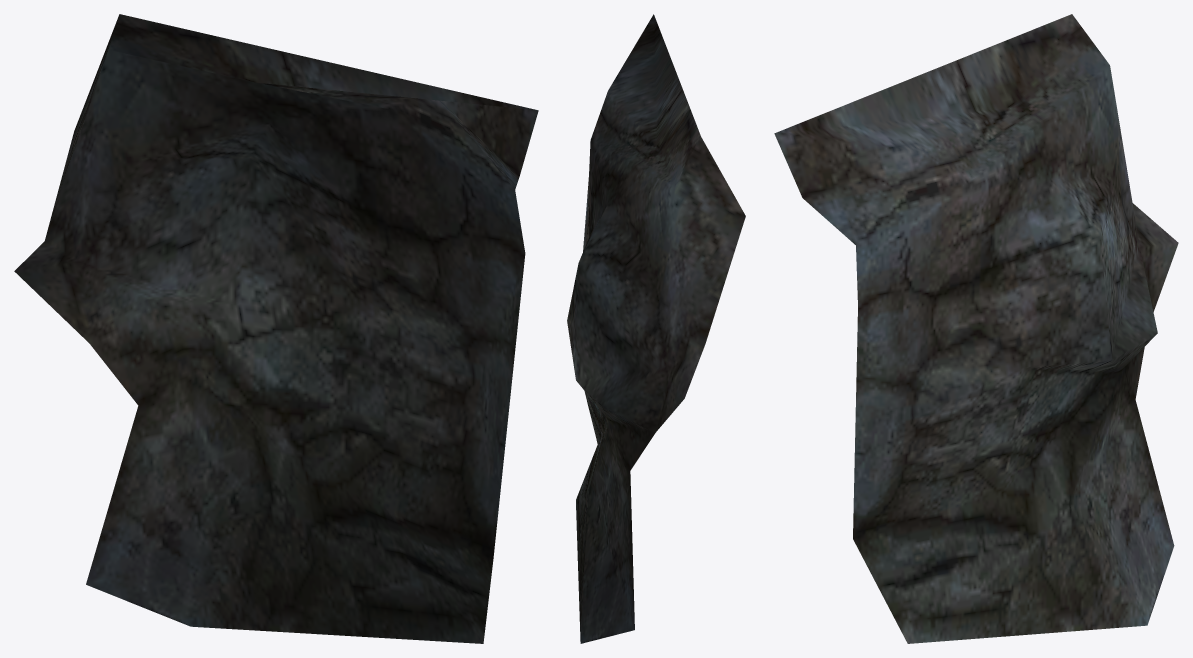
File: S_Rock_Yellow034_H35.FBX
3 views of the same model, side by side, from view 1: azimuth 30°, elevation 25°; view 2: azimuth 150°, elevation 25°; view 3: azimuth 270°, elevation 25° (orthographic). The views are drawn at different scales.
Visible parts, largest first — view 1: S_Rock_Yellow034_H35; view 2: S_Rock_Yellow034_H35; view 3: S_Rock_Yellow034_H35.
Part boxes in pixels (x1,y1,x2,y2): S_Rock_Yellow034_H35: (14, 14, 538, 643); S_Rock_Yellow034_H35: (567, 14, 745, 643); S_Rock_Yellow034_H35: (774, 14, 1178, 643).
Size of the model in its own units: 686 by 868 by 1336.
Materials: 1 (1 with a texture image).
